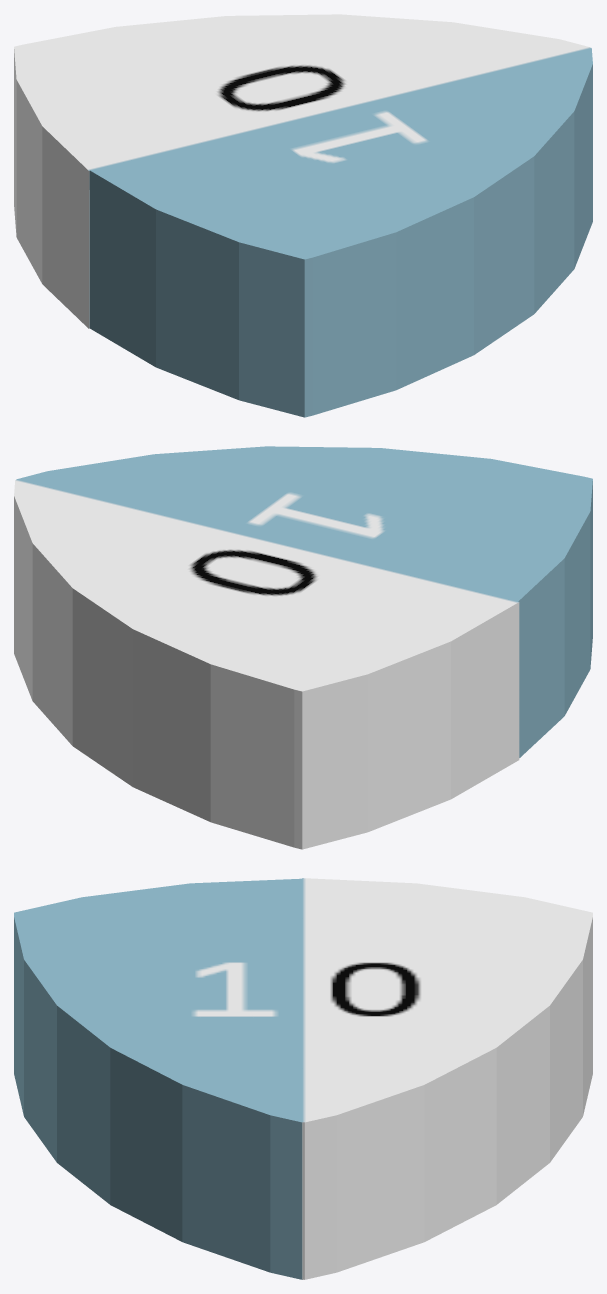
File: button10.fbx
The picture shows the model from 3 angles, top to bottom: view 1: azimuth 30°, elevation 25°; view 2: azimuth 150°, elevation 25°; view 3: azimuth 270°, elevation 25°; orthographic projection.
Visible parts, largest first — view 1: Button10; view 2: Button10; view 3: Button10.
Part boxes in pixels (x1,y1,x2,y2): Button10: [14, 14, 592, 417]; Button10: [14, 446, 592, 849]; Button10: [14, 878, 592, 1279].
Bounding box in the file's own units: 200 × 60 × 200.
1 material, 1 textured.
